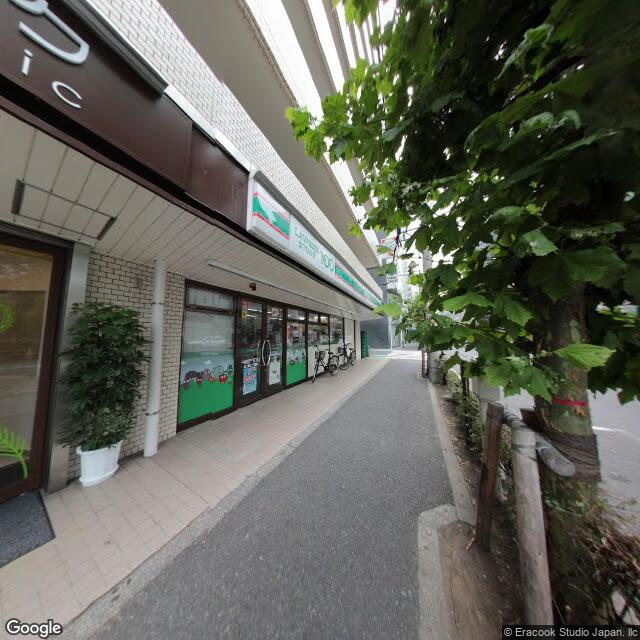lawson: (248, 188, 382, 313)
